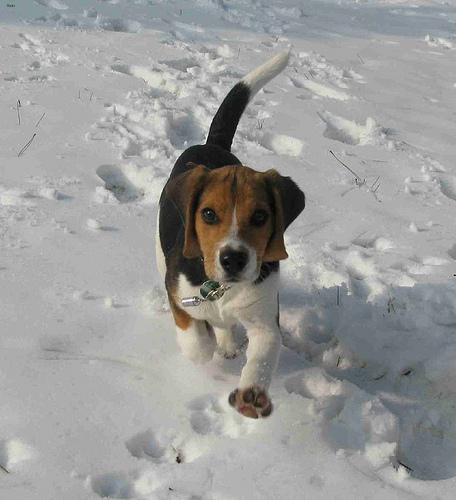dog-beagle: (163, 164, 304, 282)
